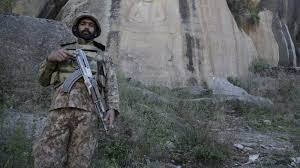gun: (56, 46, 115, 136)
uniform: (35, 35, 119, 168)
